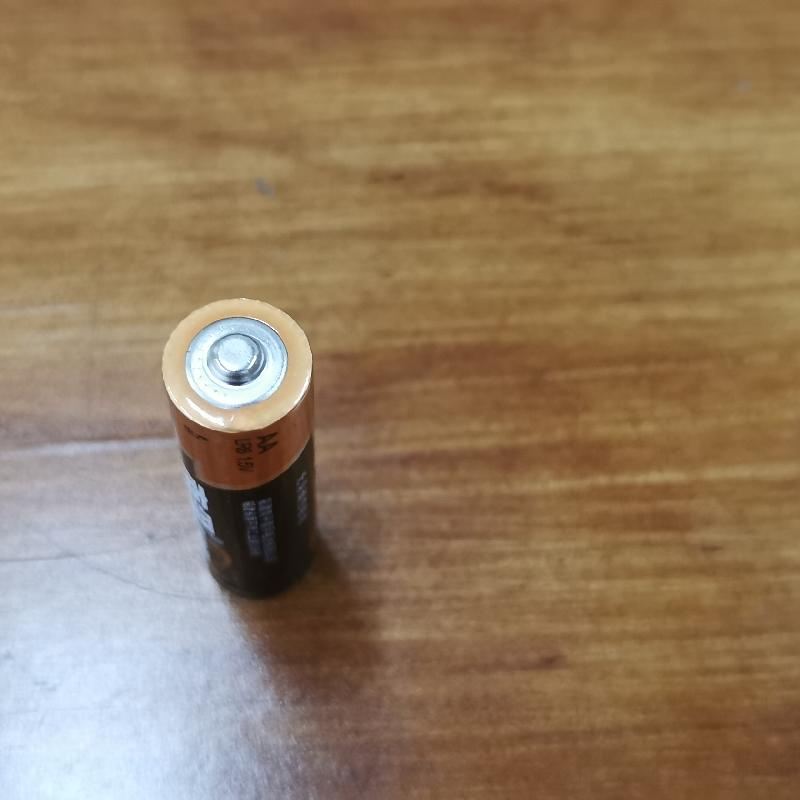battery: (159, 293, 325, 603)
